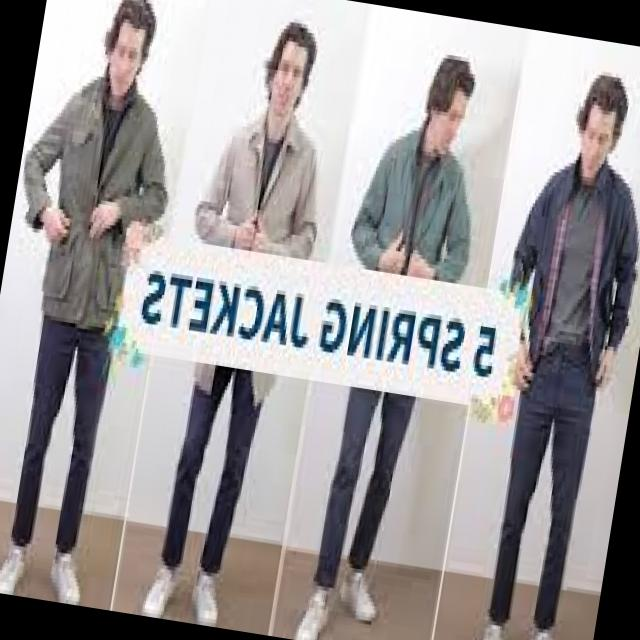Jacket: (294, 118, 476, 456), (19, 74, 178, 332), (185, 116, 314, 413), (506, 156, 640, 411)
